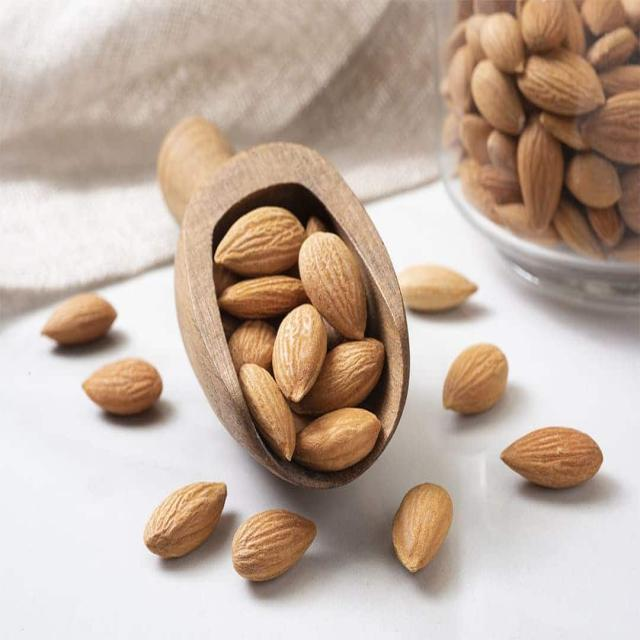cekirdek: (463, 0, 639, 249), (237, 222, 372, 451), (410, 259, 486, 332), (42, 290, 120, 346), (147, 511, 232, 562), (451, 354, 508, 420), (519, 442, 599, 484), (242, 504, 274, 586), (91, 370, 168, 401), (400, 496, 446, 547)
